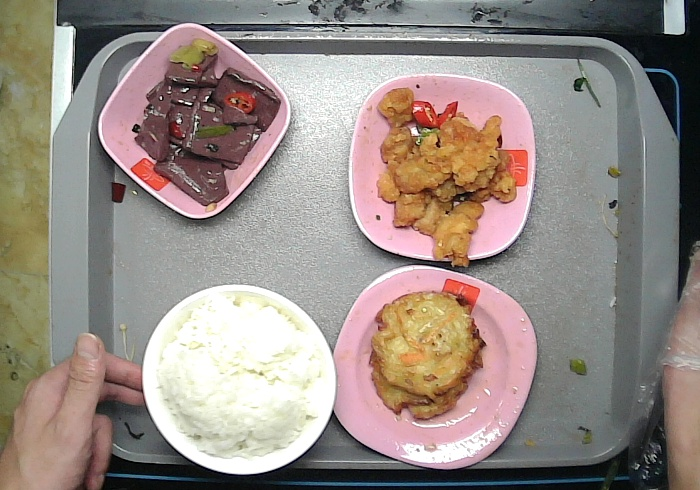SHKJ-Fan_Wan: (139, 284, 337, 476)
SHKJ-Fen_Se_Cai_Die: (348, 74, 537, 260)
SHKJ-Fen_Se_Si_Fang_Cai_Die: (331, 266, 538, 470)
SHKJ-Fen_Se_Xiao_Fang_Die: (99, 22, 290, 220)
